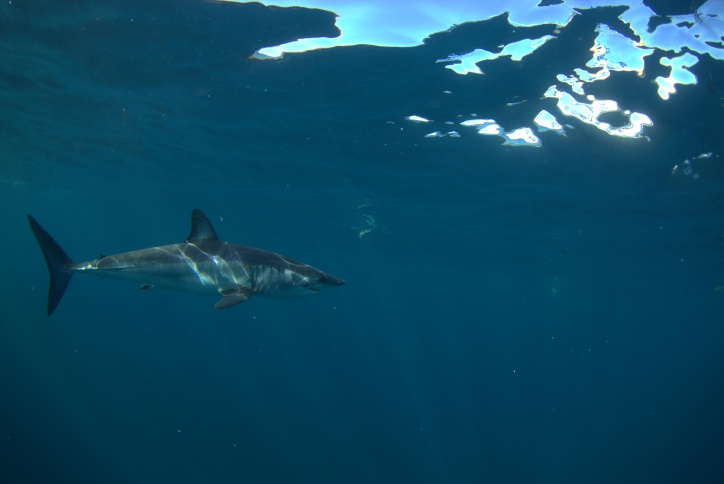Mako: (14, 185, 350, 329)
